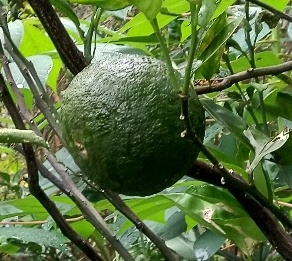Cam: (54, 46, 210, 199)
